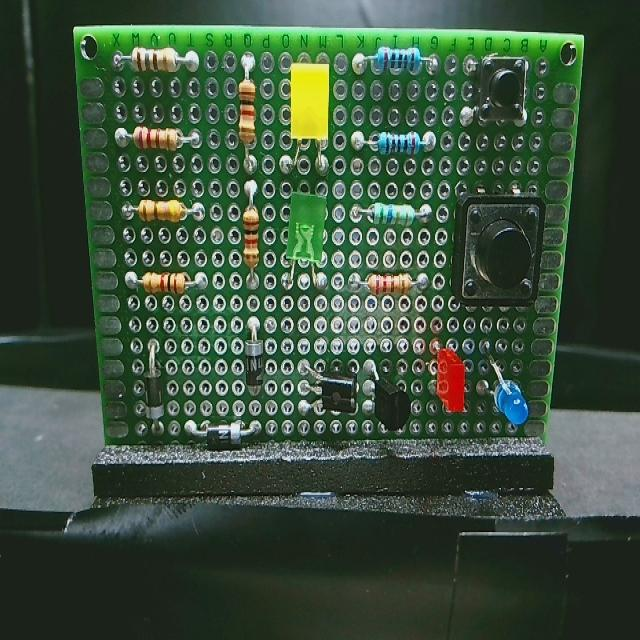diode: (130, 337, 184, 437), (185, 412, 258, 454), (238, 323, 274, 397)
led: (280, 58, 339, 154), (280, 182, 329, 282), (424, 336, 472, 424), (490, 368, 534, 431)
resistor: (117, 114, 200, 154), (134, 261, 214, 300), (359, 36, 435, 77), (116, 38, 194, 77), (352, 125, 437, 153), (354, 274, 426, 306), (130, 195, 198, 226), (358, 201, 428, 231), (239, 193, 262, 278), (240, 59, 257, 152)
switch: (451, 190, 548, 312), (471, 54, 535, 126)
transistor: (296, 362, 364, 429), (371, 363, 415, 437)
